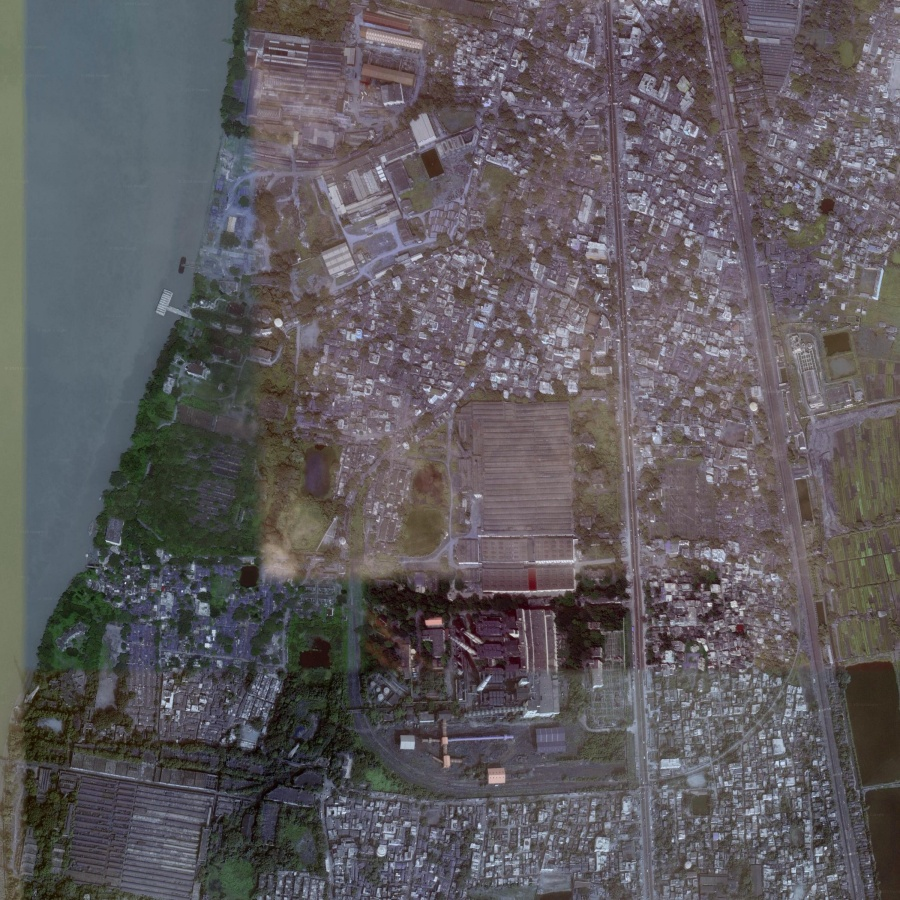PowerPlant: (354, 544, 599, 783)
